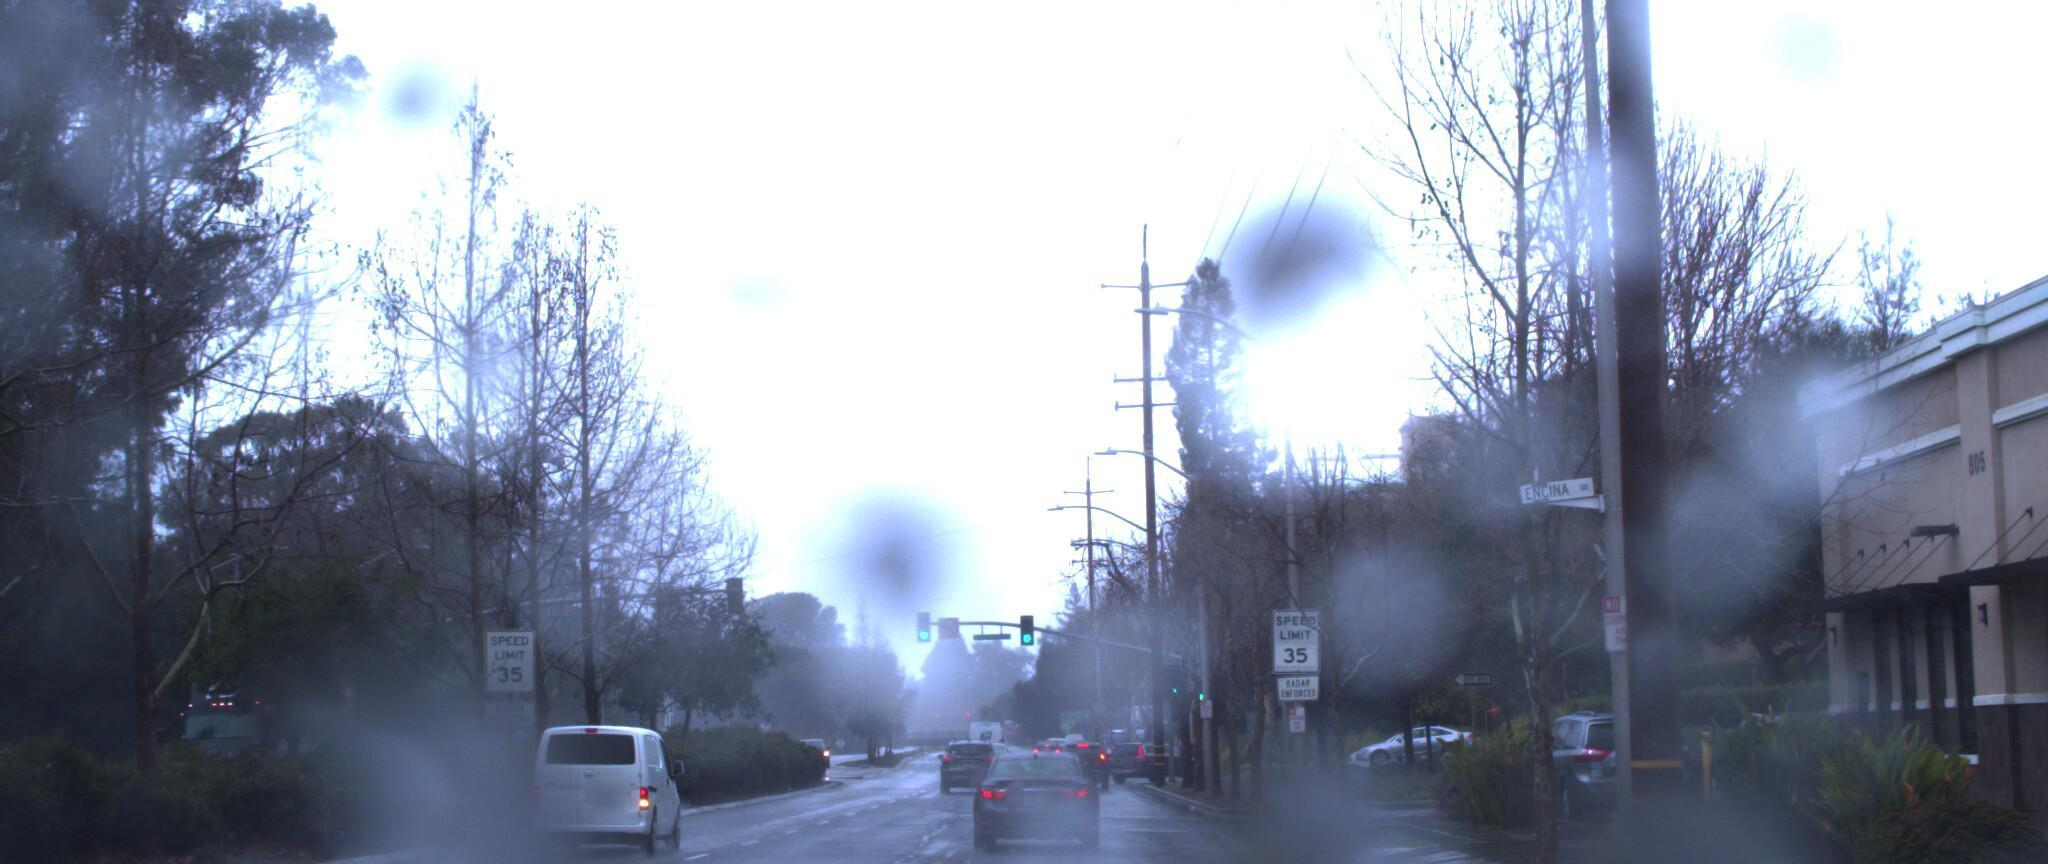car: (1501, 707, 1690, 829), (516, 703, 682, 833), (961, 745, 1096, 857)
